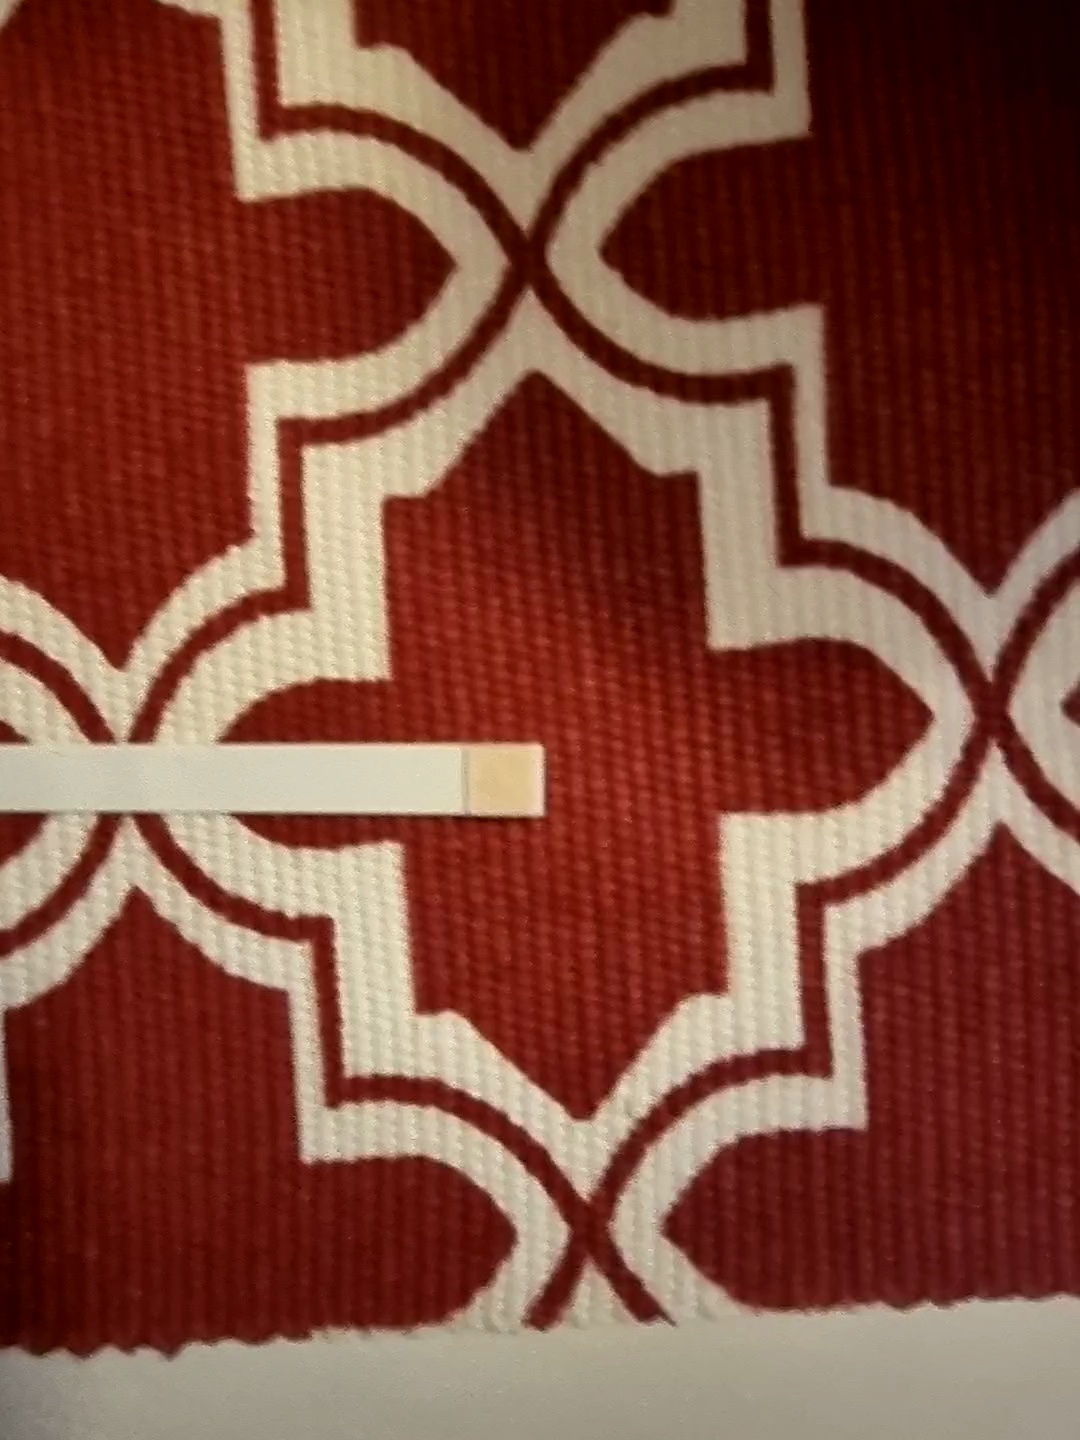keto-tip: (457, 737, 556, 825)
